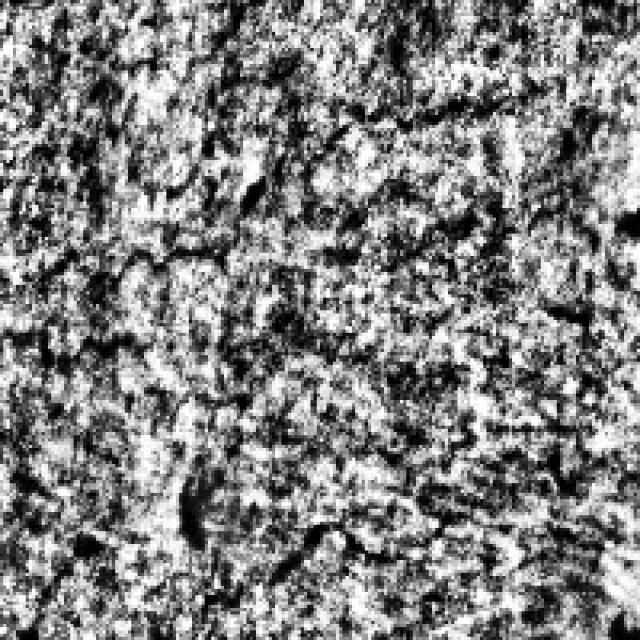Pitted_Surface: (172, 272, 628, 605), (70, 0, 572, 294), (0, 307, 166, 627)
